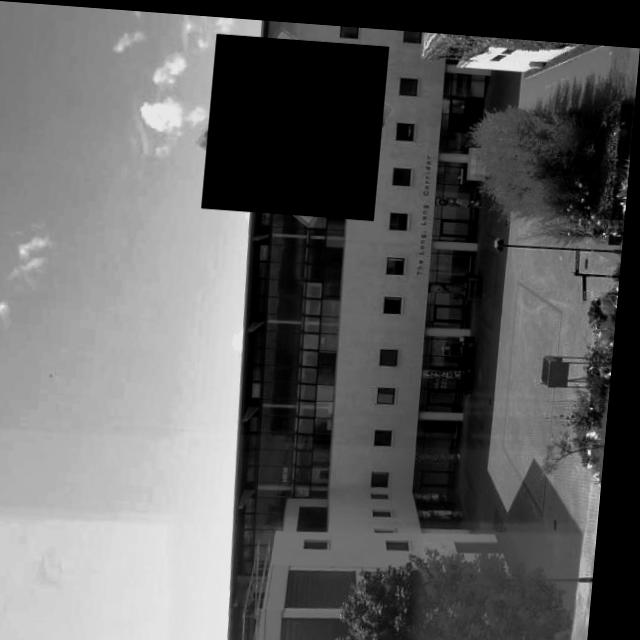qr_code: (205, 30, 389, 214)
